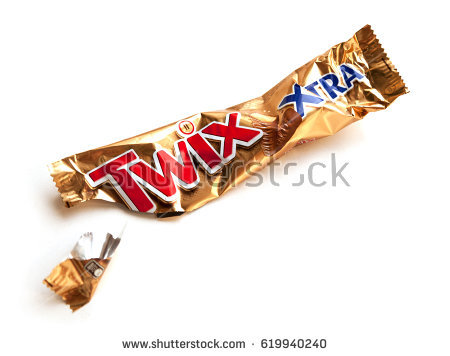wrapper: (38, 21, 412, 316)
